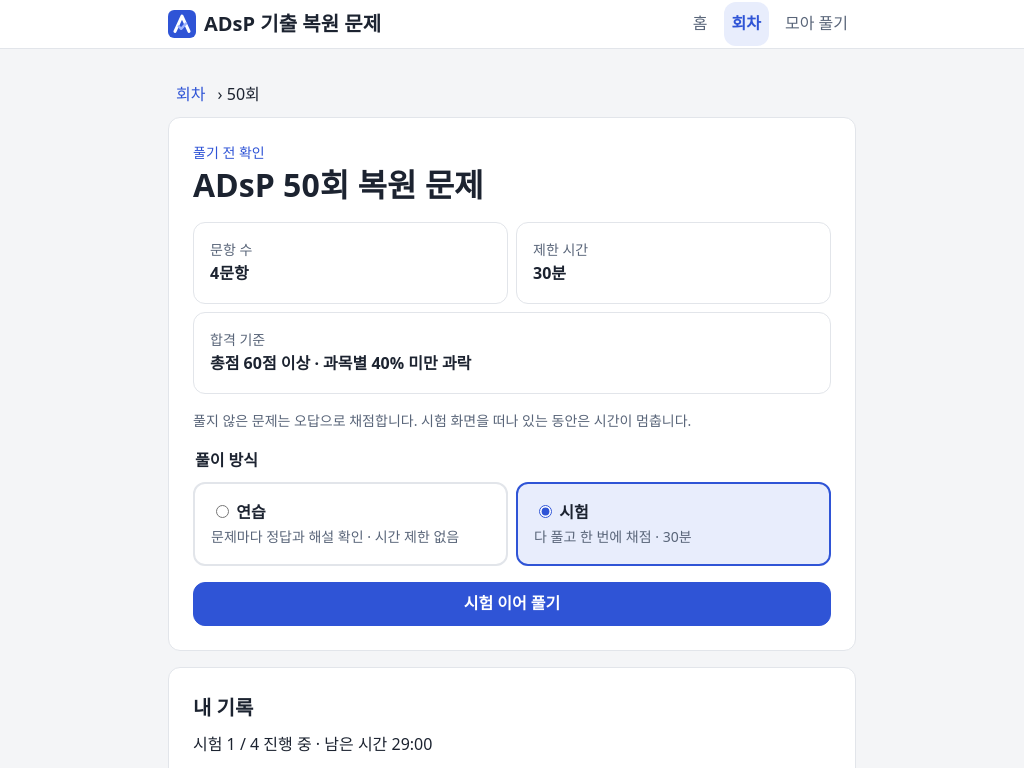
Test case: round info renders exam record and appropriate start
The width and height of the screenshot is (1024, 768).
expect the heading "내 기록" is shown: met, box [193,694,253,721]
expect the radio button labelled "시험 다 풀고 한 번에 채점 · 30분" is checked: met, box [539,505,552,518]
Click the radio button labelled "연습 문제마다 정답과 해설 확인 · 시간 제한 없음" at coordinates (222, 511), box [216,505,229,518]
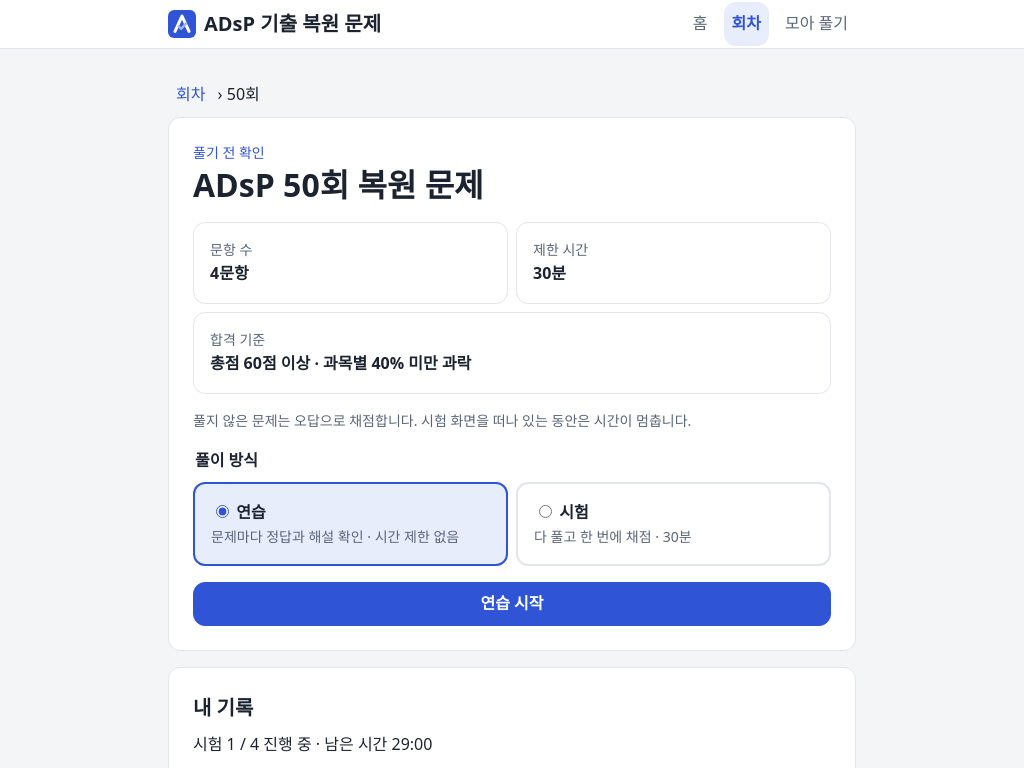
expect the link "연습 시작" is shown: met, box [193,582,831,626]
